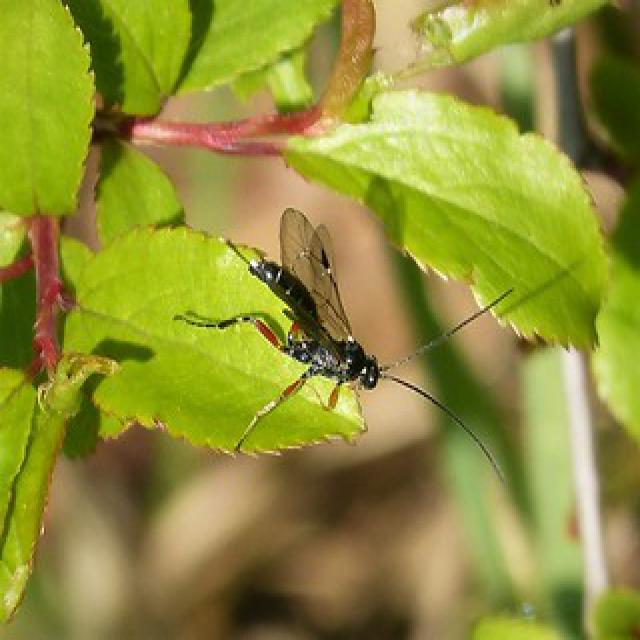Guepe: (195, 204, 559, 538)
